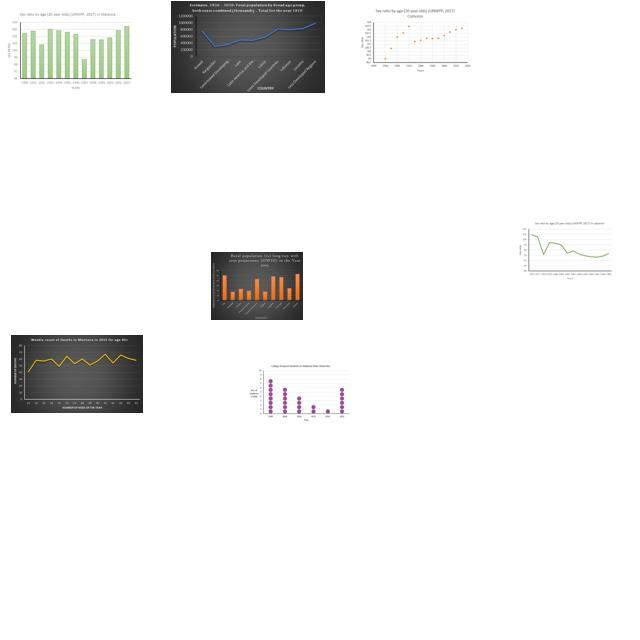Graph: (171, 1, 325, 93), (5, 11, 134, 91), (11, 335, 143, 413), (358, 7, 473, 74), (247, 363, 351, 424), (211, 252, 303, 320), (516, 221, 614, 281)
